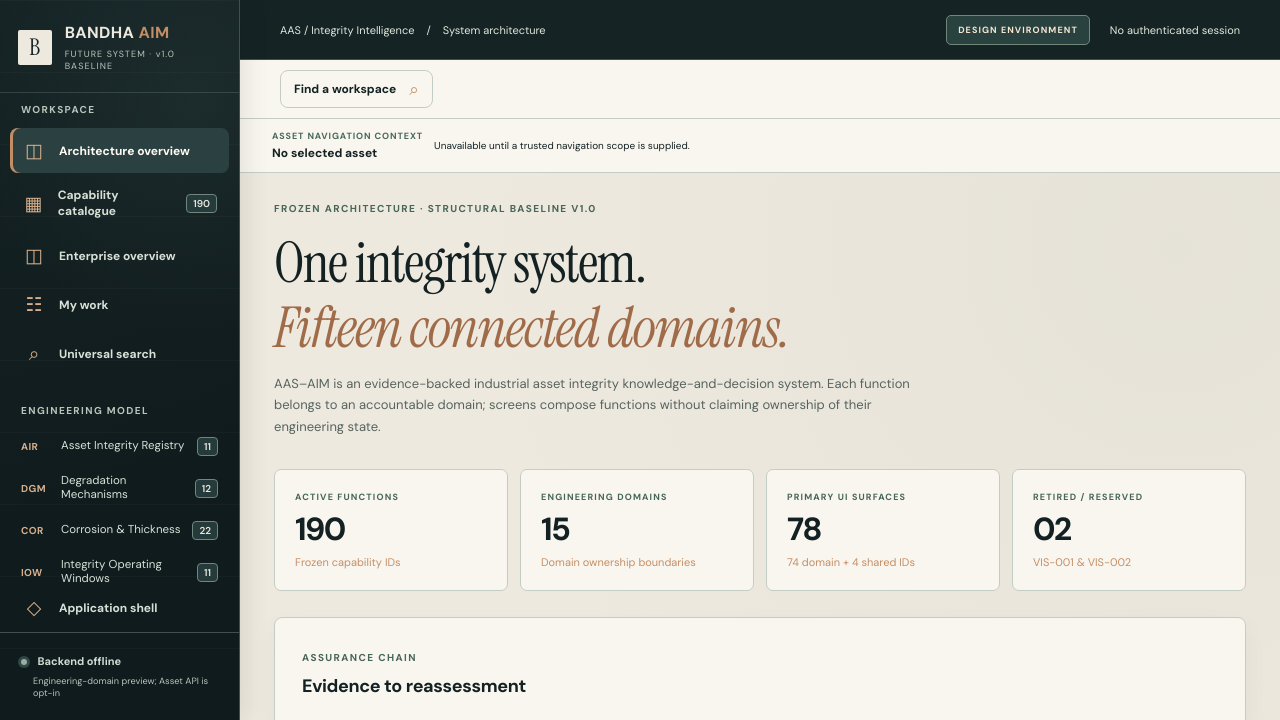
Phase 46.11 — workspace finder shell integration › navigation keeps the canonical target after a hash synchronization event
The width and height of the screenshot is (1280, 720).
Click the heading "Find a workspace ⌕". click: point(356, 89)
box: [280,70,433,108]
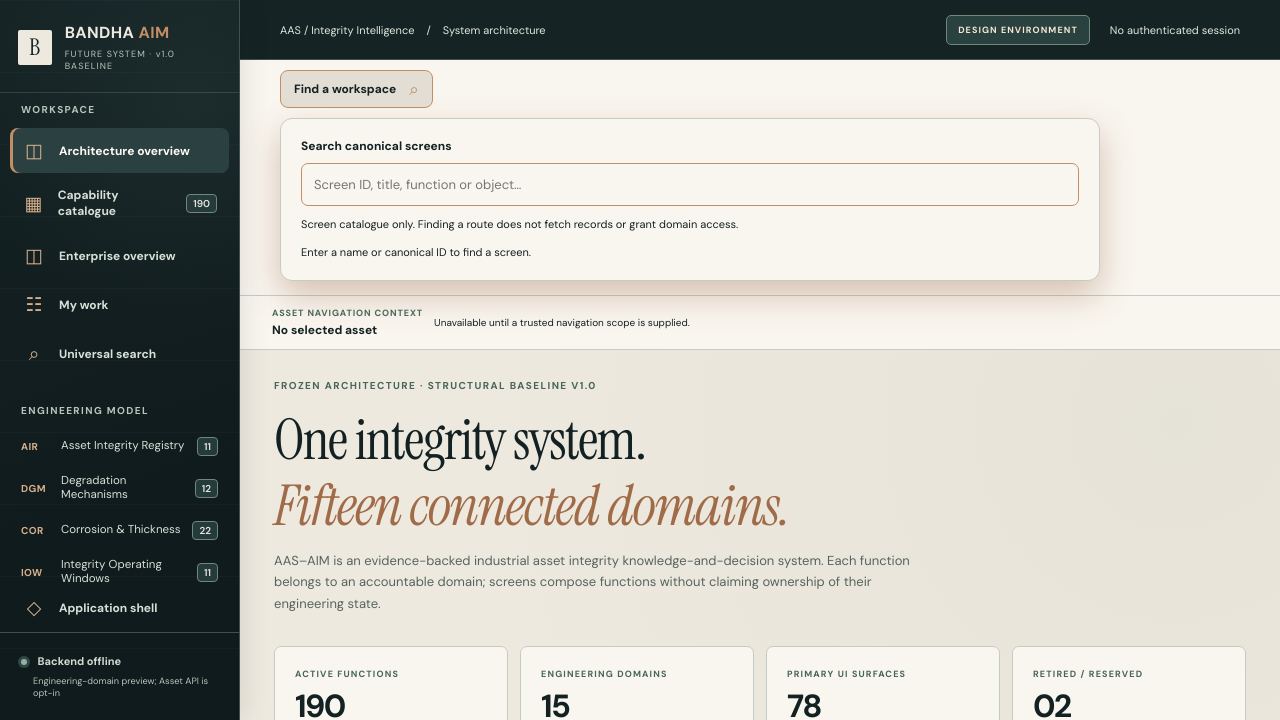
Type "SCR-INS-001" into the search field labelled "Search canonical screens". click: point(690, 184)
box: [301,163,1079,206]
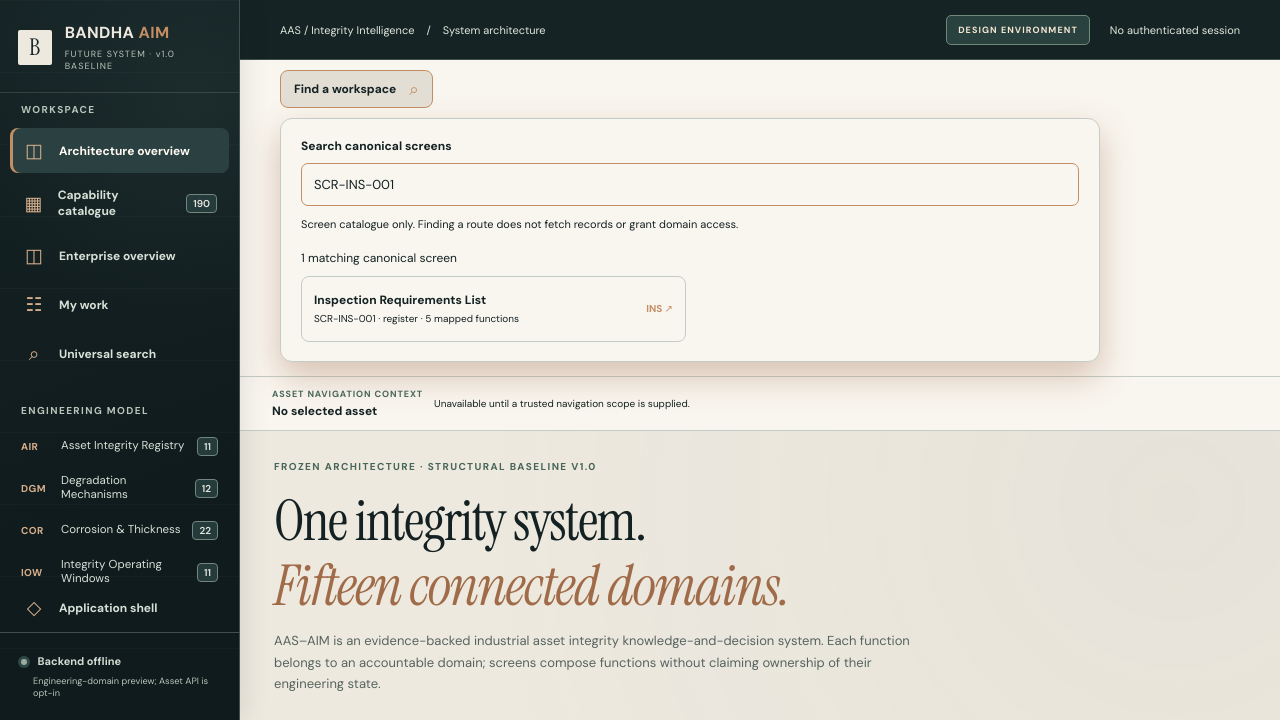
Click the button "Inspection Requirements List". click: point(400, 300)
box: [301,276,686,342]
(page scrolled)
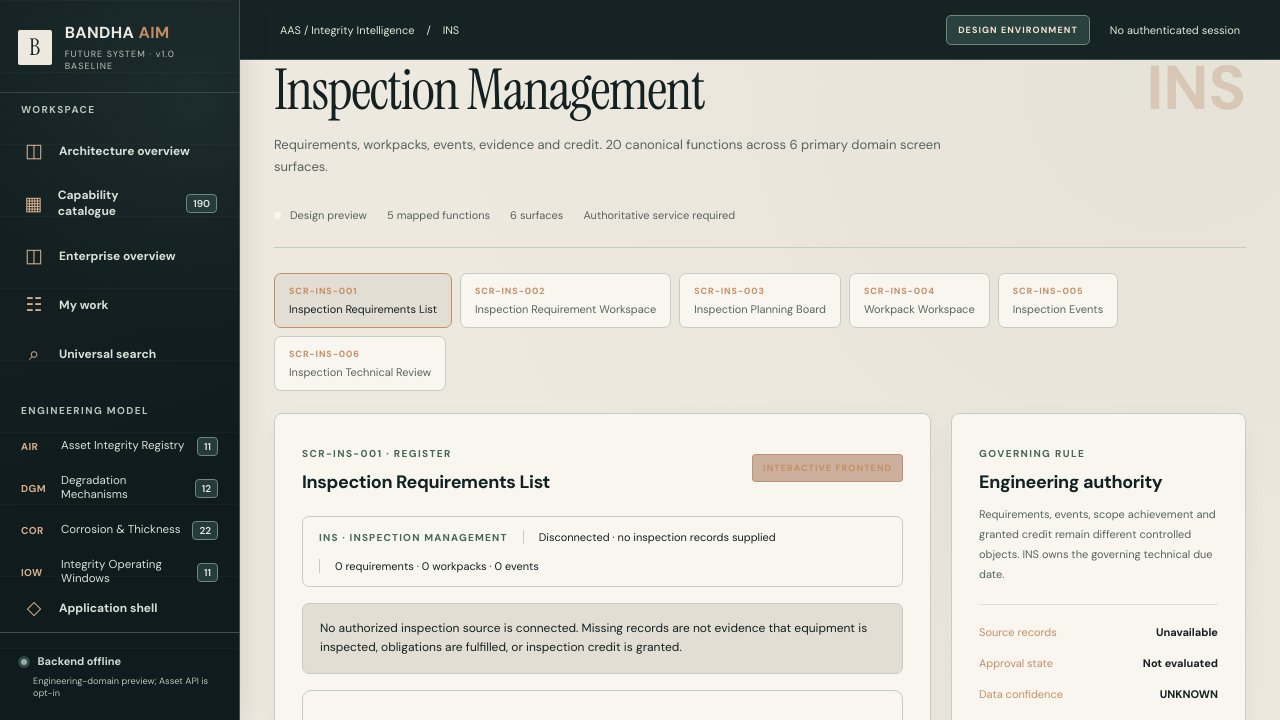
Expected: the heading "Inspection Requirements List" is shown, [302,470,550,494]
